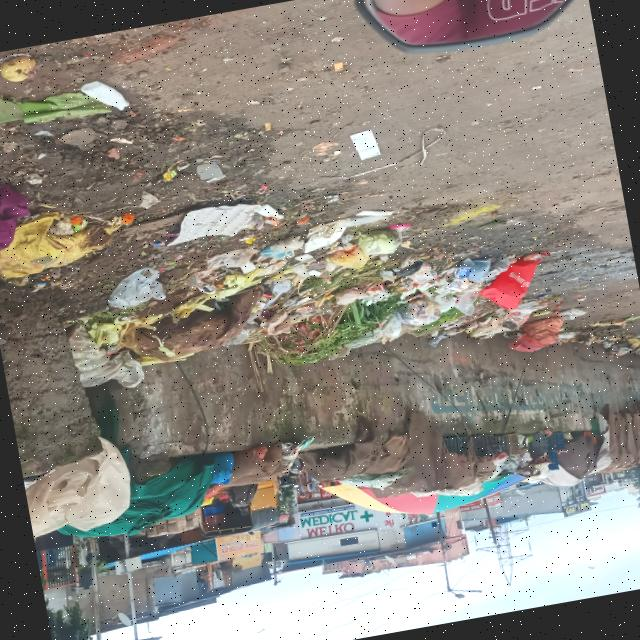garbage: (0, 135, 565, 438)
